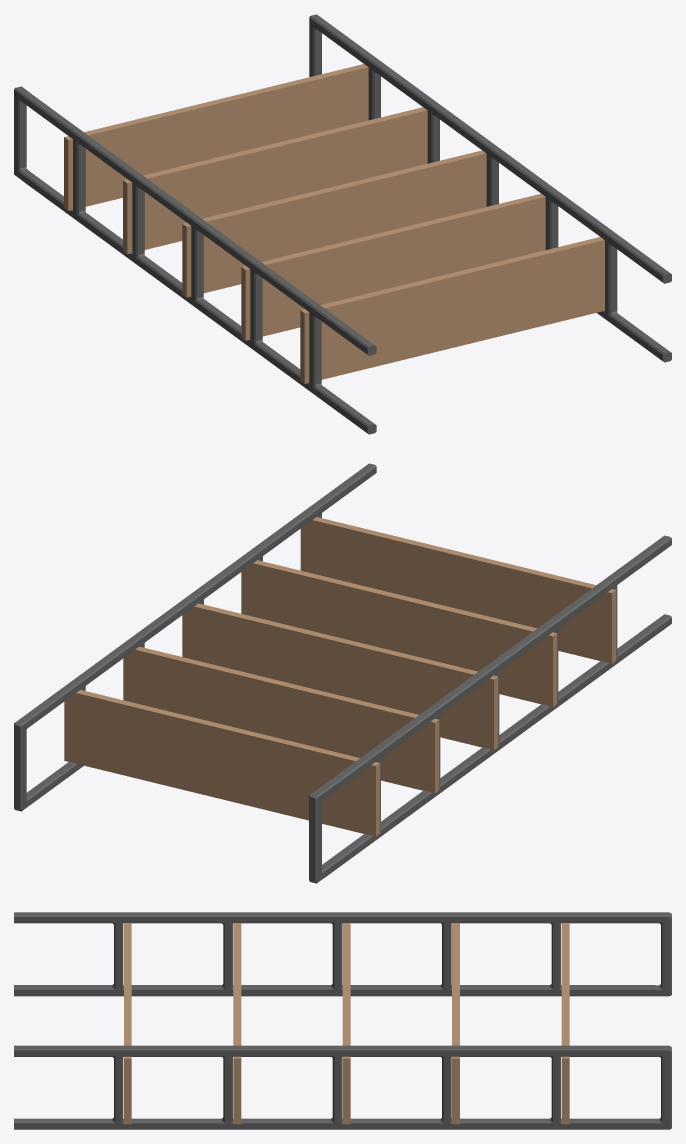
Rendered from Shelves.glb.
3 views of the same model, one above another, from view 1: azimuth 30°, elevation 25°; view 2: azimuth 150°, elevation 25°; view 3: azimuth 270°, elevation 25° (orthographic). The views are drawn at different scales.
Visible parts, largest first — view 1: Shelves; view 2: Shelves; view 3: Shelves.
Boxes of the visible parts, x1,y1,x2,y2 form: Shelves: (14, 14, 671, 434); Shelves: (14, 463, 671, 883); Shelves: (14, 912, 671, 1129).
Size of the model in its own units: 0.9732 by 0.2617 by 1.92.
1 material, 1 textured.
